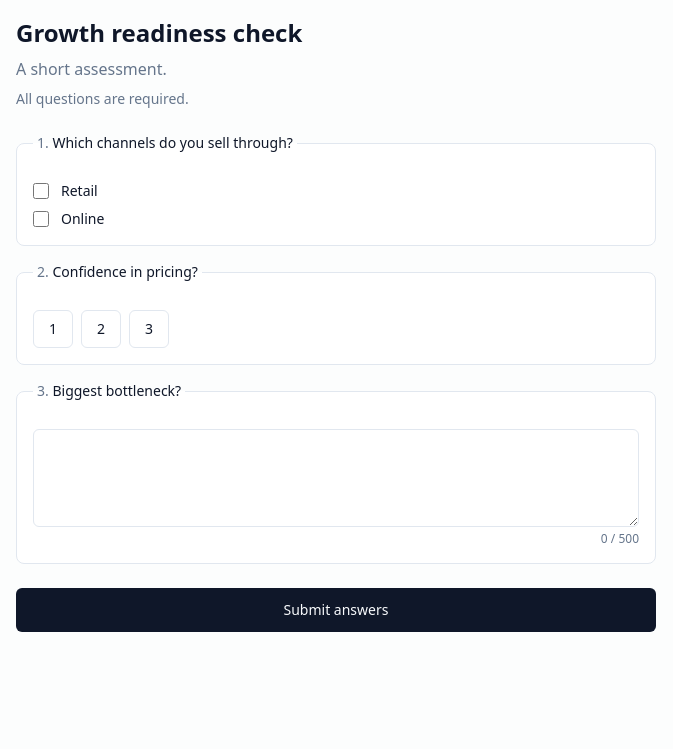
Test: PublicQuestionnairePage › clears a question error once it is answered
Expected: the heading "Growth readiness check" is shown, [16, 16, 302, 49]
Click the button "Submit answers" at {"x": 336, "y": 610}, box [16, 588, 656, 632]
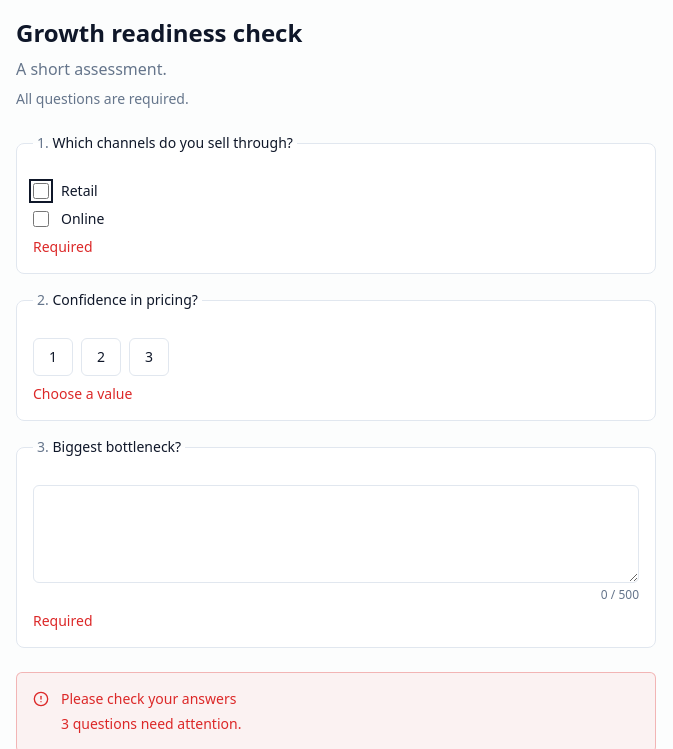
Now the text "3 questions need attention." is shown, box [61, 713, 241, 736]
Click the checkbox labelled "Online" at {"x": 41, "y": 219}, box [33, 211, 49, 227]
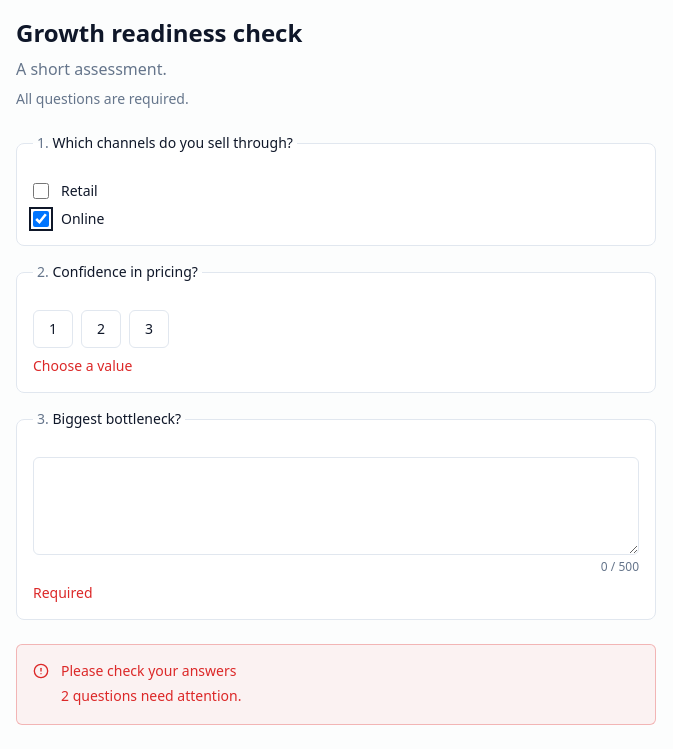
Now the text "2 questions need attention." is shown, box [61, 685, 241, 708]
